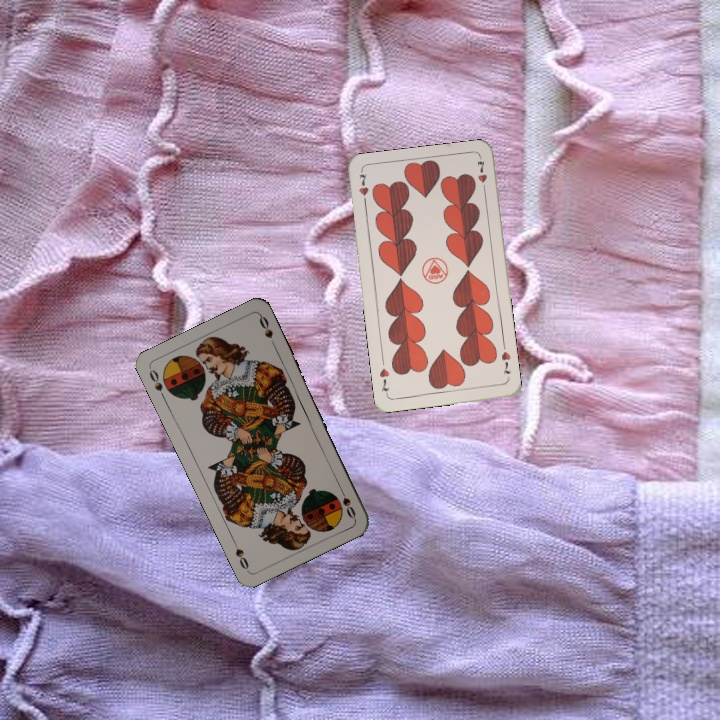H7: (355, 170, 371, 209), (497, 347, 513, 377)
SO: (145, 365, 169, 403), (335, 483, 358, 521)
